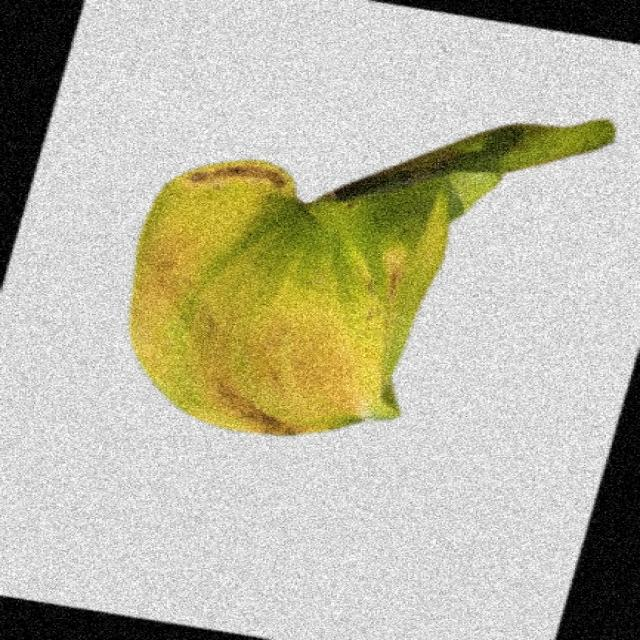daun berpenyakit kuning: (130, 121, 615, 435)
